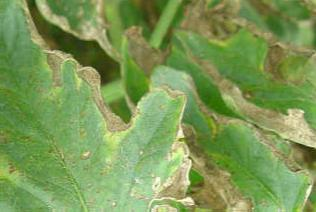Tomato leaf bacterial spot: (0, 0, 193, 212)
